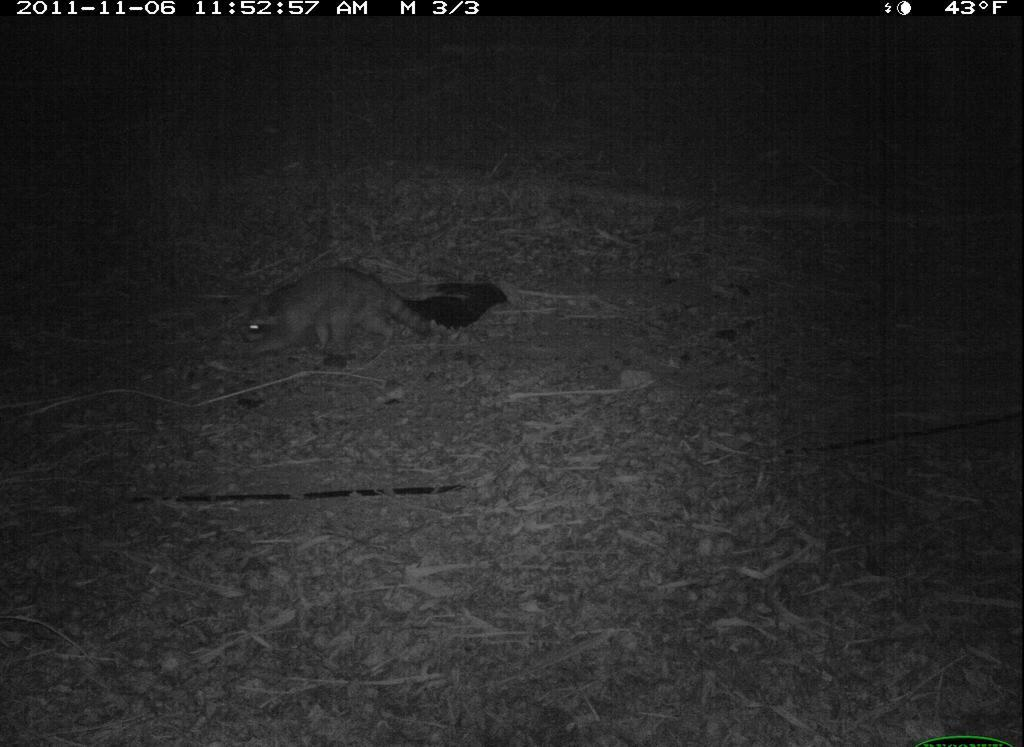raccoon: (227, 263, 474, 374)
